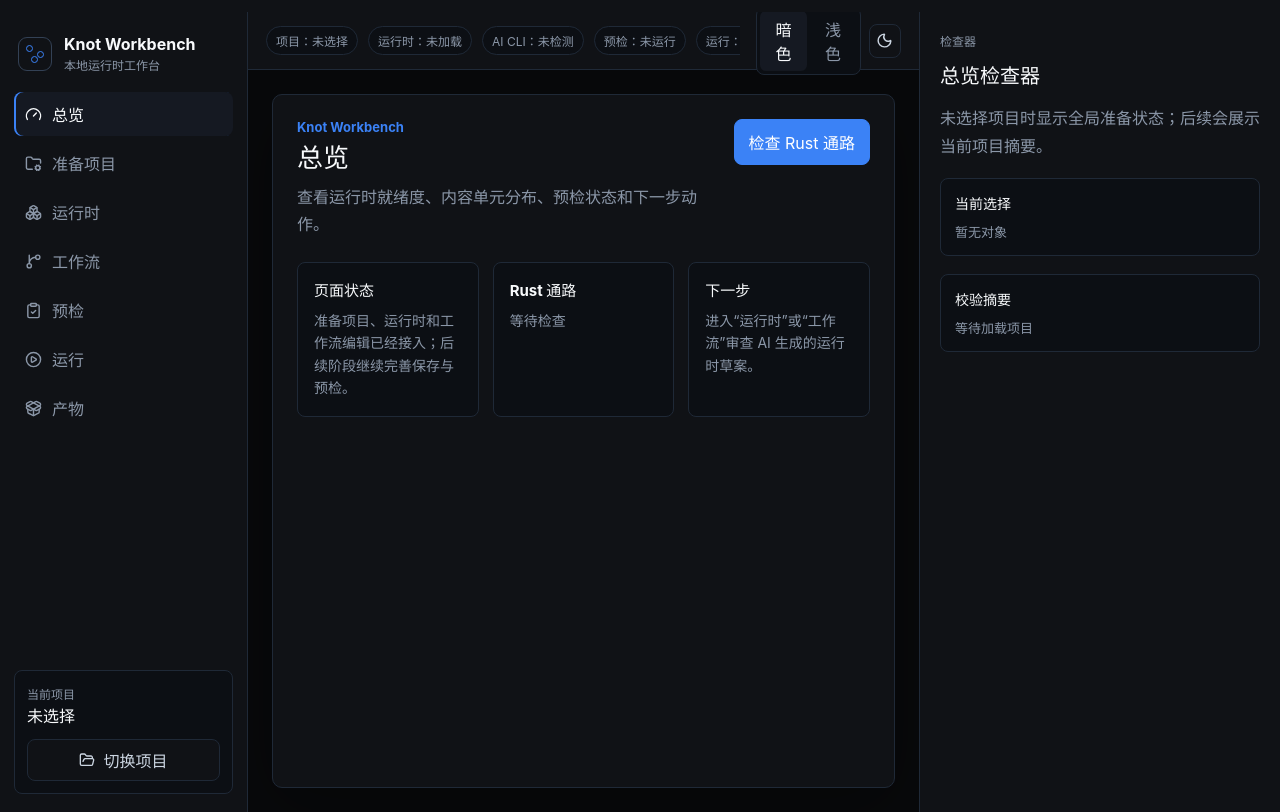
Test: App › checks the Rust command bridge
Click the button "检查 Rust 通路": (802, 142) [734,119,870,165]
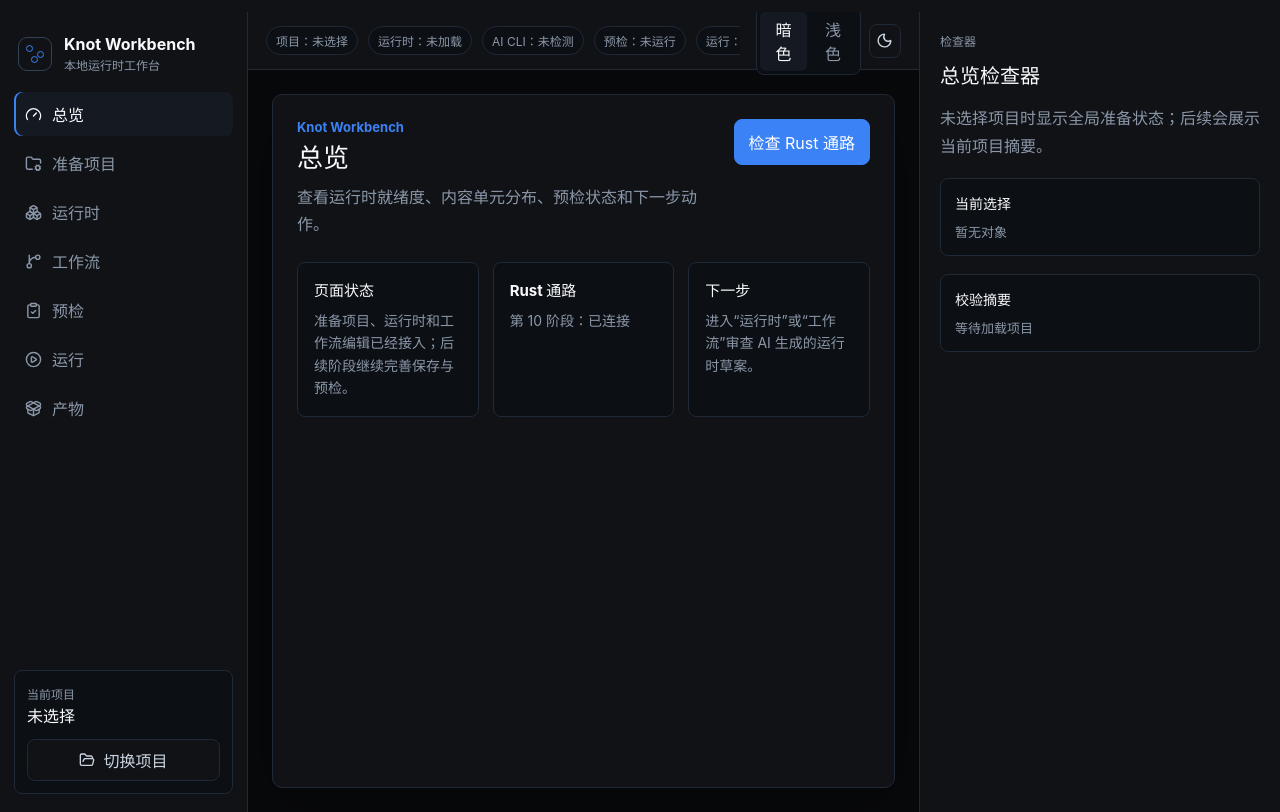
expect the text "第 10 阶段：已连接" is shown: met, box [510,312,630,329]
